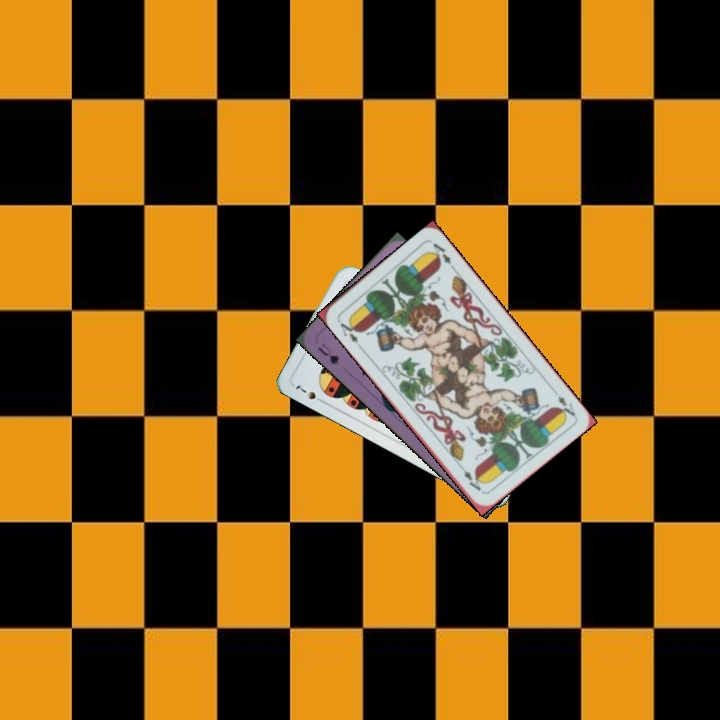EA: (336, 316, 361, 346), (553, 391, 578, 420)
GU: (314, 339, 342, 367)
S7: (291, 381, 327, 406)
